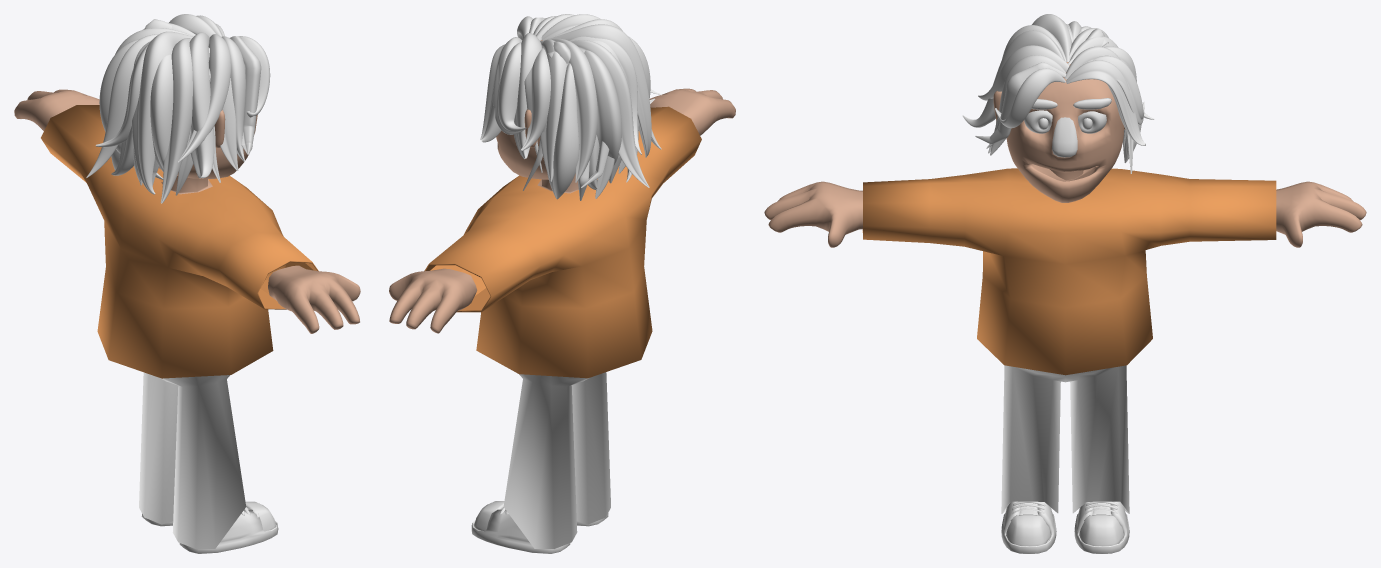
Rendered from personaje_final_con_buzo.fbx.
The picture shows the model from 3 angles, left to right: view 1: azimuth 30°, elevation 25°; view 2: azimuth 150°, elevation 25°; view 3: azimuth 270°, elevation 25°; orthographic projection. The views are drawn at different scales.
Visible parts, largest first — view 1: buzo, NurbsPath.002, jeans.001, body_sin_manos, shoes.001, head; view 2: buzo, NurbsPath.002, jeans.001, body_sin_manos, shoes, head; view 3: buzo, jeans.001, NurbsPath.002, head, body_sin_manos, shoes, shoes.001, eye.
Boxes of the visible parts, left/top/right/bottom form: buzo: left=41, top=105, right=318, bottom=378; NurbsPath.002: left=86, top=14, right=270, bottom=203; jeans.001: left=139, top=372, right=246, bottom=548; body_sin_manos: left=14, top=89, right=360, bottom=333; shoes.001: left=179, top=501, right=278, bottom=553; head: left=159, top=110, right=257, bottom=178; buzo: left=424, top=106, right=701, bottom=378; NurbsPath.002: left=480, top=14, right=661, bottom=200; jeans.001: left=503, top=372, right=610, bottom=548; body_sin_manos: left=389, top=88, right=735, bottom=333; shoes: left=471, top=501, right=570, bottom=553; head: left=496, top=40, right=548, bottom=179; buzo: left=862, top=168, right=1276, bottom=375; jeans.001: left=1001, top=365, right=1129, bottom=513; NurbsPath.002: left=962, top=14, right=1154, bottom=173; head: left=993, top=62, right=1125, bottom=202; body_sin_manos: left=764, top=169, right=1366, bottom=247; shoes: left=1074, top=501, right=1129, bottom=553; shoes.001: left=1001, top=501, right=1056, bottom=553; eye: left=1024, top=110, right=1106, bottom=133.
Size of the model in its own units: 612 by 1754 by 1945.
